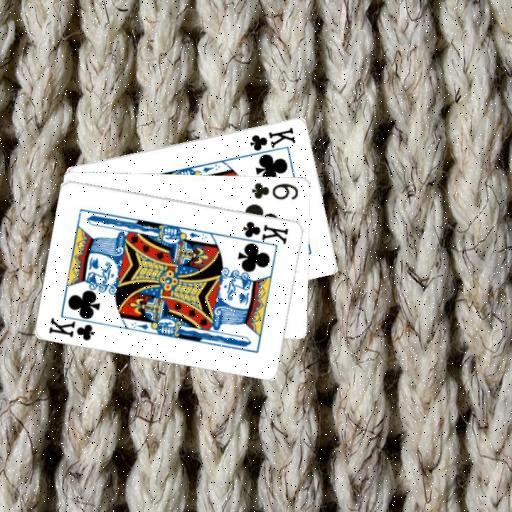6C: (249, 179, 300, 202)
KC: (46, 310, 104, 342), (233, 217, 290, 249), (245, 124, 297, 158)
